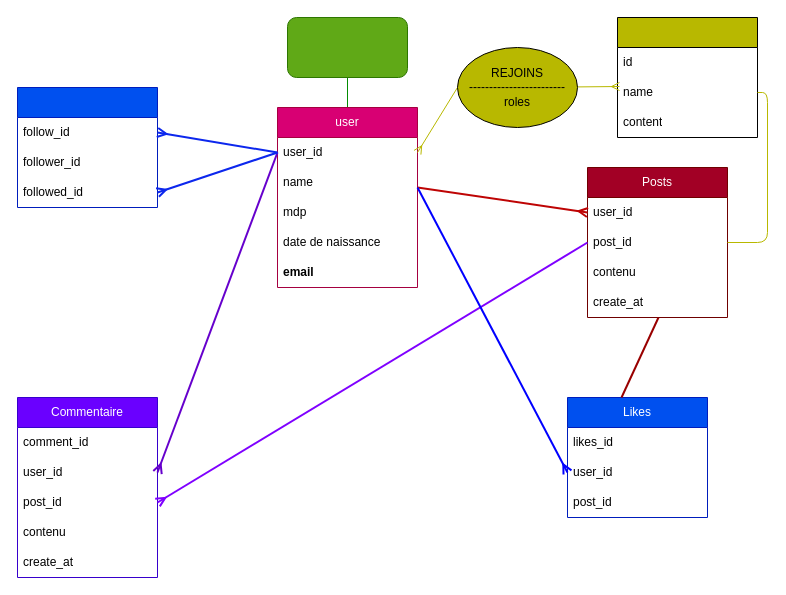
This 786x595 diagram has some shape labels left out. The box of each missing label's shape, as (x1, y1, x2, y2) in pixels:
folow: (16, 86, 158, 208)
GroupePartage: (616, 16, 758, 138)
Réseau Social: (286, 16, 408, 78)
